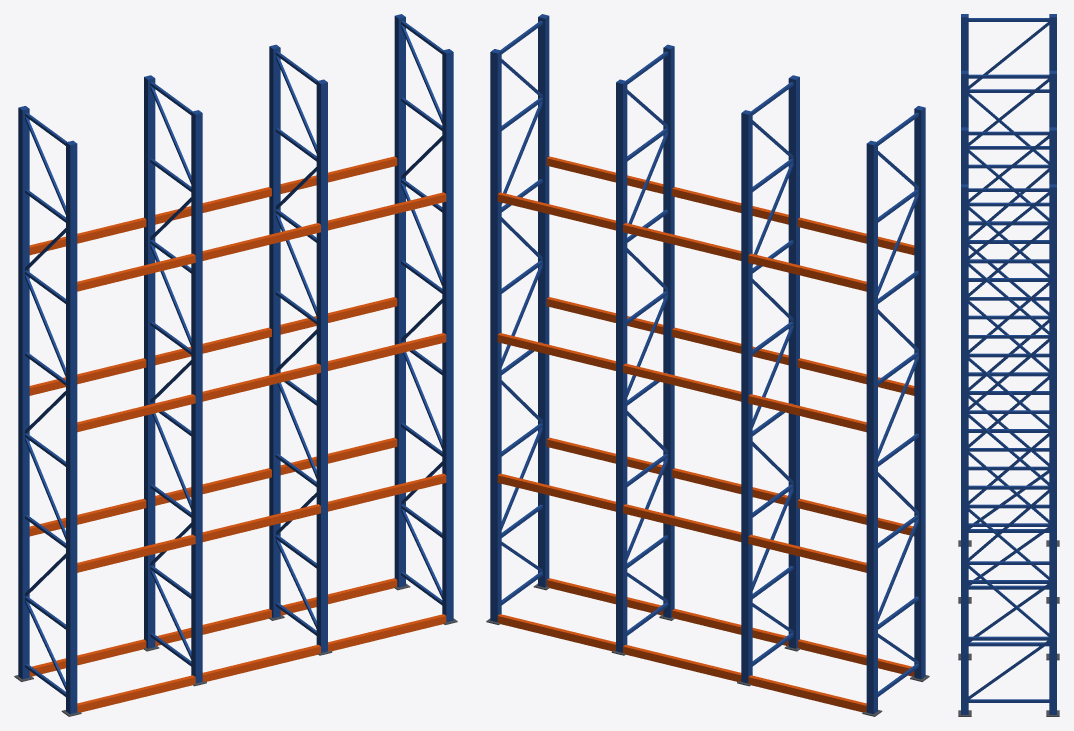
Rendered from porta_paletes.glb.
The picture shows the model from 3 angles, left to right: view 1: azimuth 30°, elevation 25°; view 2: azimuth 150°, elevation 25°; view 3: azimuth 270°, elevation 25°; orthographic projection. The views are drawn at different scales.
Visible parts, largest first — view 1: estrutura; view 2: estrutura; view 3: estrutura.
Boxes of the visible parts, x1,y1,x2,y2 form: estrutura: (14,14,457,716); estrutura: (486,14,929,716); estrutura: (958,14,1059,716).
Size of the model in its own units: 4.34 by 6.08 by 1.06.
